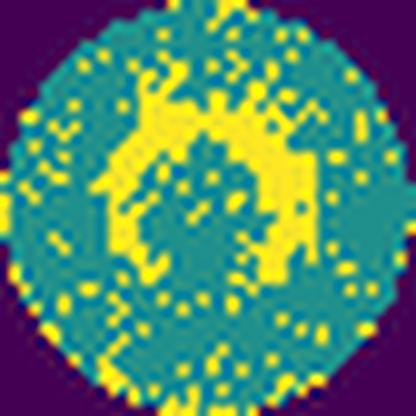Donut: (86, 58, 330, 322)
